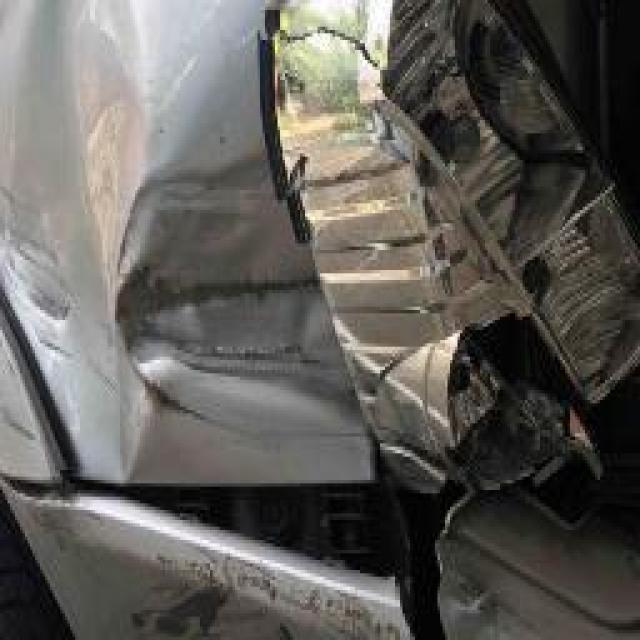Bumper: (8, 497, 620, 640)
Fender: (0, 7, 355, 490)
Light: (308, 0, 640, 480)
